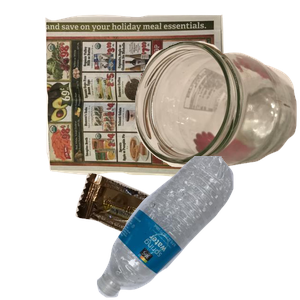glass: (132, 38, 300, 199)
paper: (42, 12, 260, 185)
plastic: (94, 156, 300, 300)
trash: (73, 171, 242, 300)
